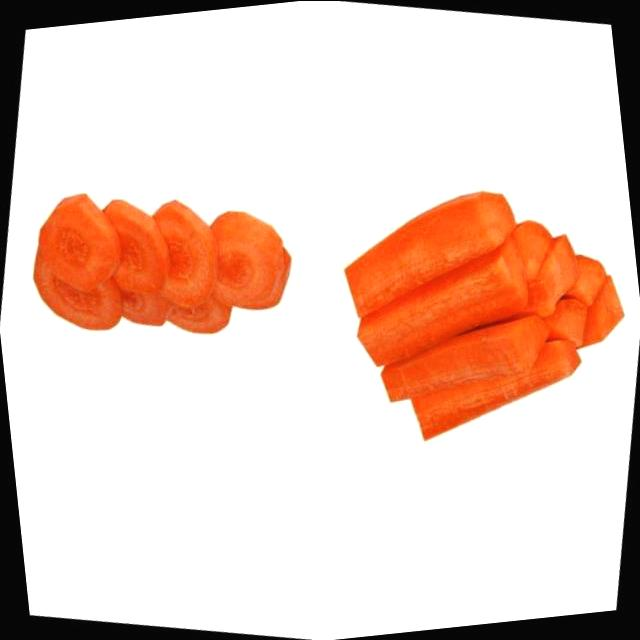carrot: (302, 147, 640, 490), (11, 156, 316, 383)
